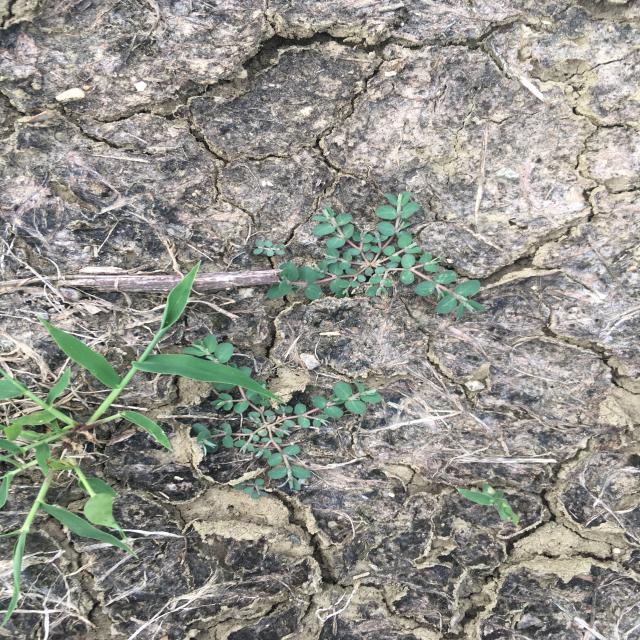SpottedSpurge: (180, 333, 383, 491), (266, 190, 488, 320), (252, 237, 286, 257)
